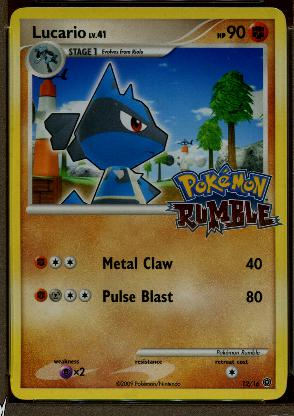Card: (8, 4, 288, 404)
